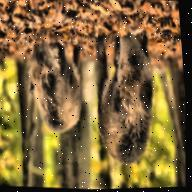boar: (85, 29, 164, 168), (22, 39, 89, 136)
